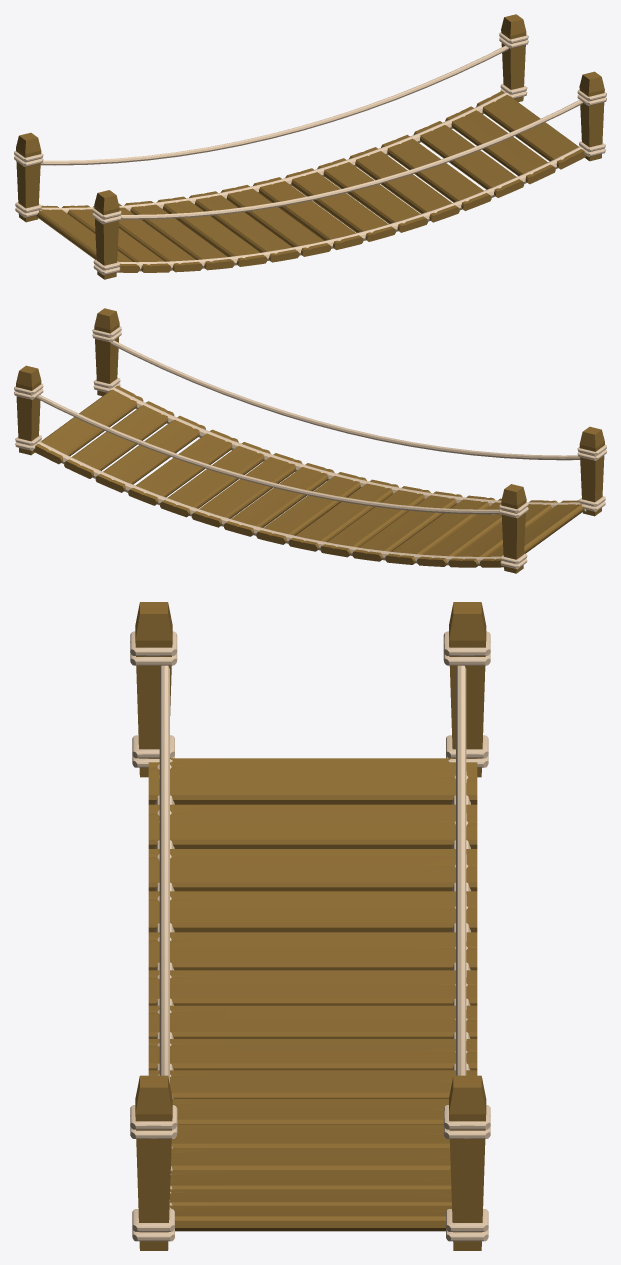
The model's file is Bridge.fbx.
3 renders of one model, top to bottom at view 1: azimuth 30°, elevation 25°; view 2: azimuth 150°, elevation 25°; view 3: azimuth 270°, elevation 25°, orthographic. The views are drawn at different scales.
Visible parts, largest first — view 1: pCube11; view 2: pCube11; view 3: pCube11.
Part boxes in pixels (x1,y1,x2,y2): pCube11: (14, 14, 606, 279); pCube11: (14, 308, 606, 573); pCube11: (130, 602, 490, 1250).
Bounding box in the file's own units: 1894 × 402 × 585.
